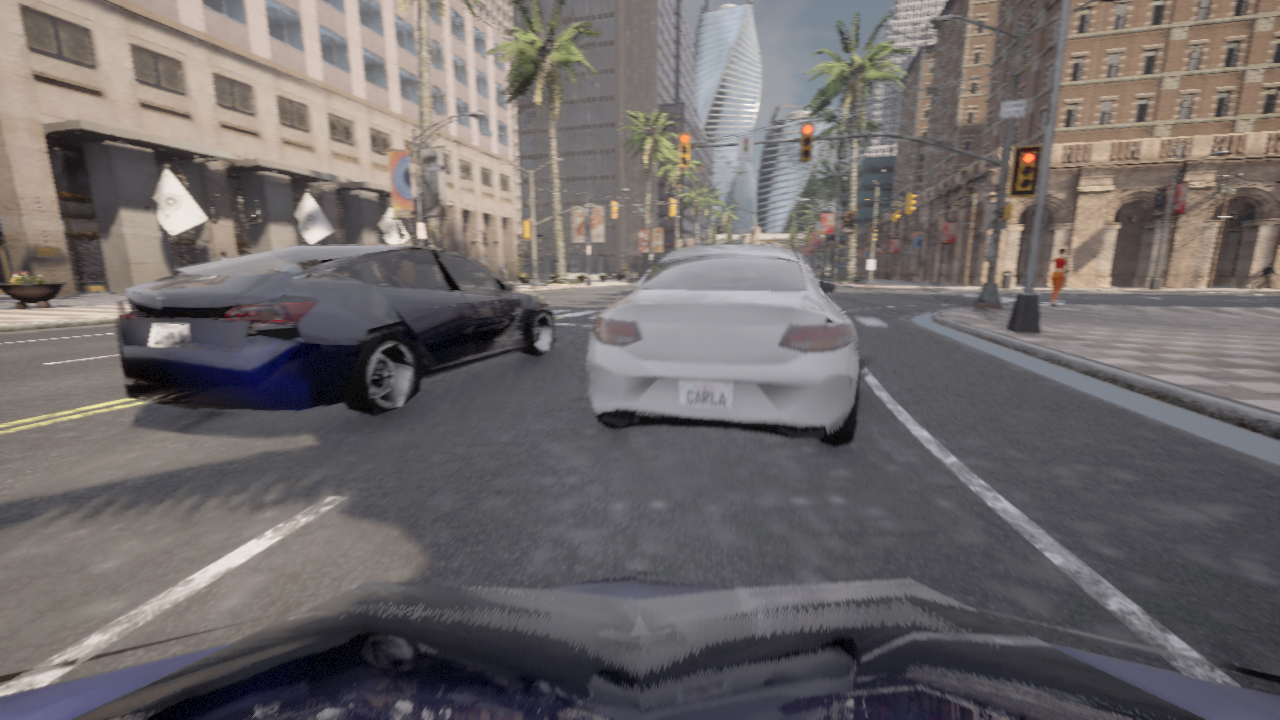cyclist: (0, 569, 1279, 719), (115, 245, 556, 416), (571, 244, 877, 447)
pedestrian: (1046, 248, 1069, 306), (1256, 262, 1277, 288), (217, 250, 227, 260), (238, 251, 245, 255)
